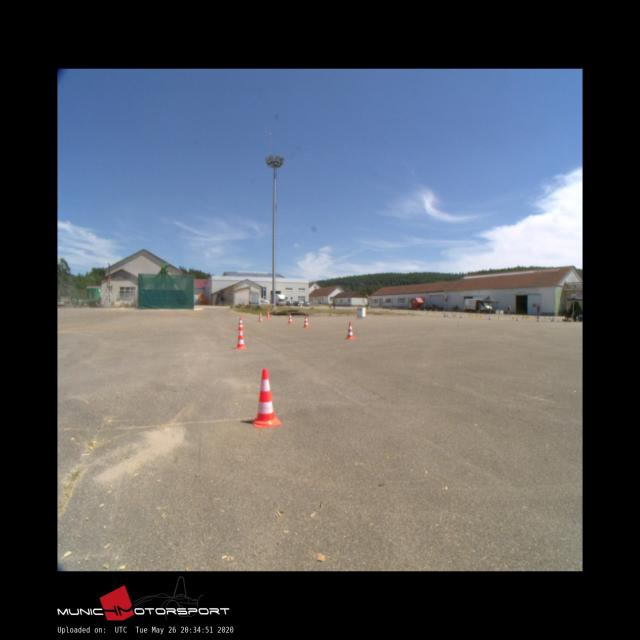large_orange_cone: (251, 368, 281, 427), (235, 328, 246, 348), (346, 322, 355, 339), (237, 317, 244, 330), (303, 316, 310, 328), (288, 313, 293, 324), (258, 312, 262, 322), (266, 310, 270, 319)
